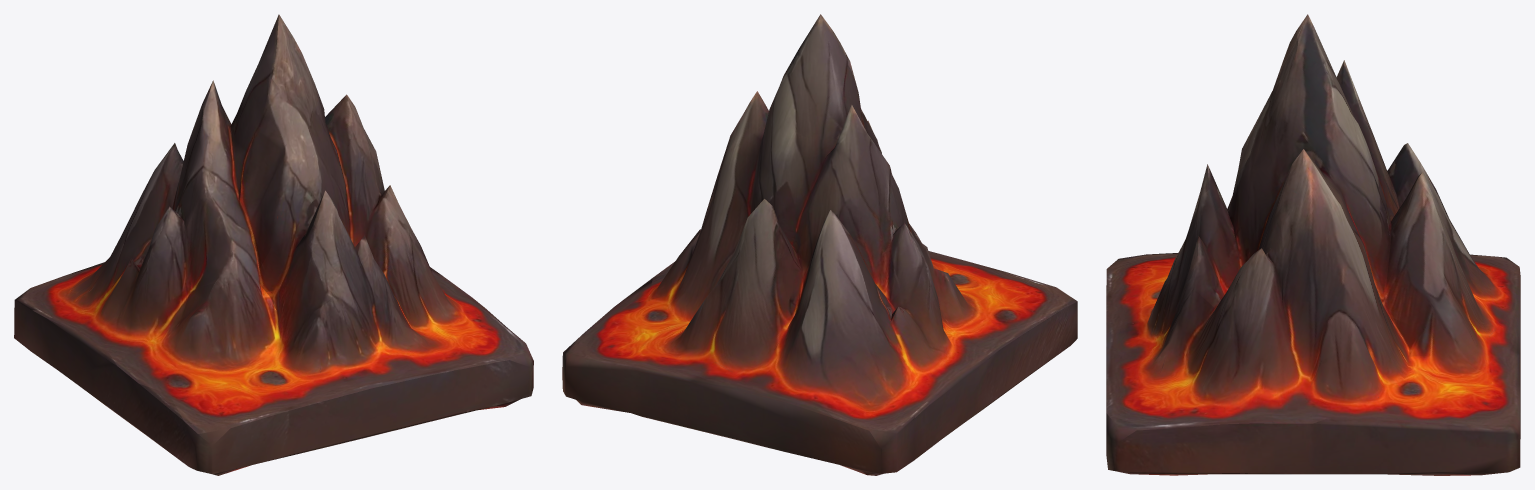
Rendered from mtn_lava.glb.
3 renders of one model, left to right at view 1: azimuth 30°, elevation 25°; view 2: azimuth 150°, elevation 25°; view 3: azimuth 270°, elevation 25°, orthographic. The views are drawn at different scales.
Visible parts, largest first — view 1: Lava Mountain; view 2: Lava Mountain; view 3: Lava Mountain.
Boxes of the visible parts, x1,y1,x2,y2 form: Lava Mountain: [14, 14, 533, 475]; Lava Mountain: [562, 14, 1077, 475]; Lava Mountain: [1106, 14, 1520, 475].
Bounding box in the file's own units: 1.9 × 1.94 × 1.91.
Materials: 1 (1 with a texture image).
